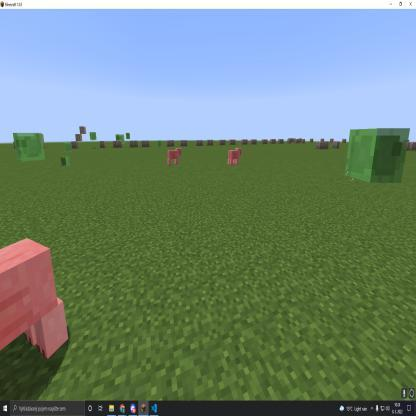pig: (0, 233, 76, 379), (226, 144, 244, 170), (166, 146, 184, 168)
